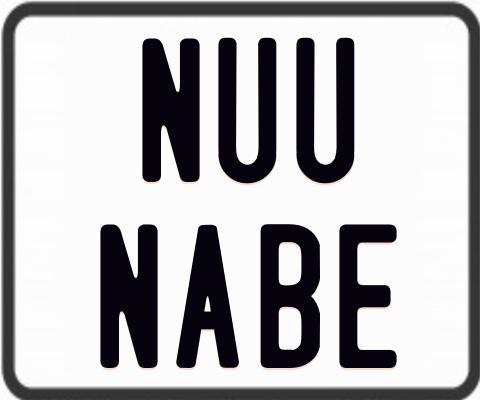A: (176, 224, 240, 371)
B: (258, 221, 317, 366)
E: (337, 224, 401, 374)
N: (97, 223, 161, 371), (142, 36, 201, 183)
U: (218, 38, 279, 184), (293, 37, 351, 186)
